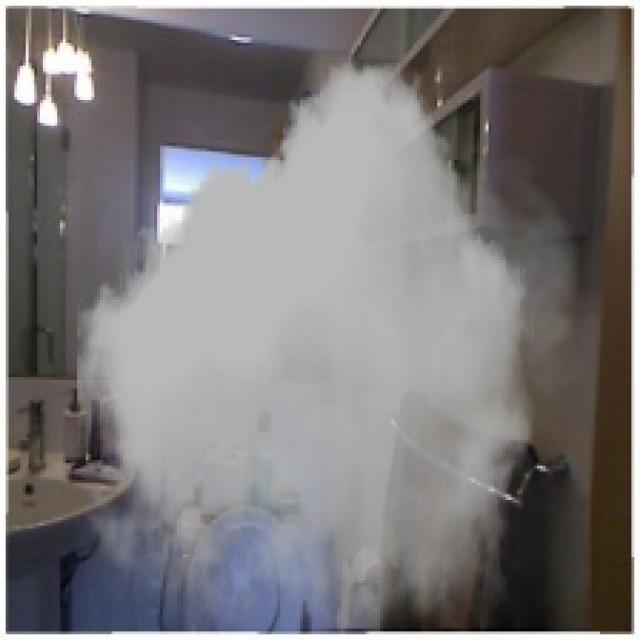smoke: (69, 63, 592, 628)
